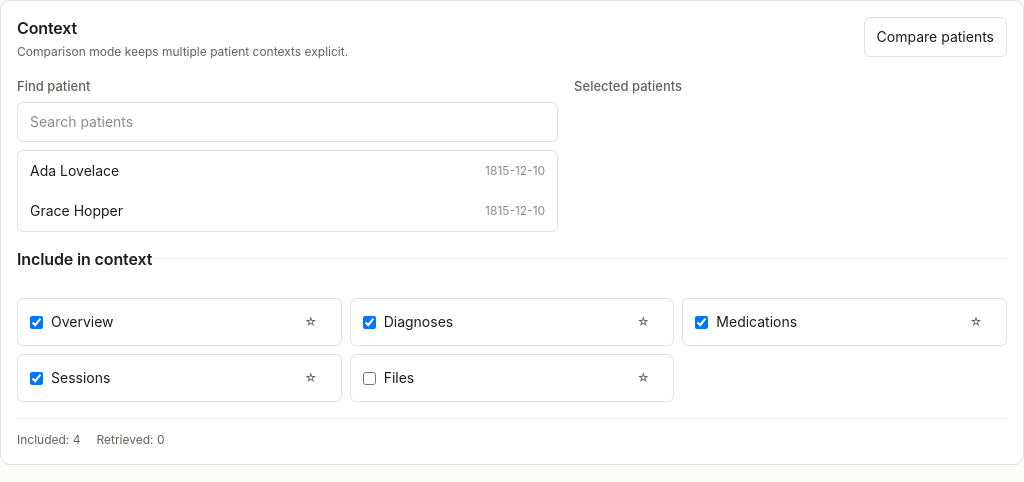
it: ContextPicker › searches and selects a patient with accessible source controls
This screenshot has width=1024, height=482.
In the search field: (288, 122) [17,102,558,142], type "grace"
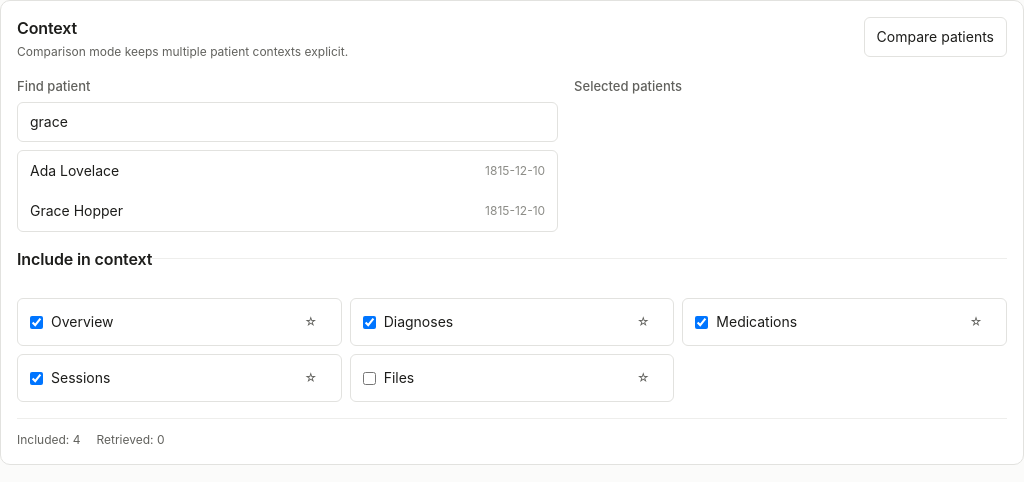
Click the button "Grace Hopper 1815-12-10": click(77, 210) [18,191,557,231]
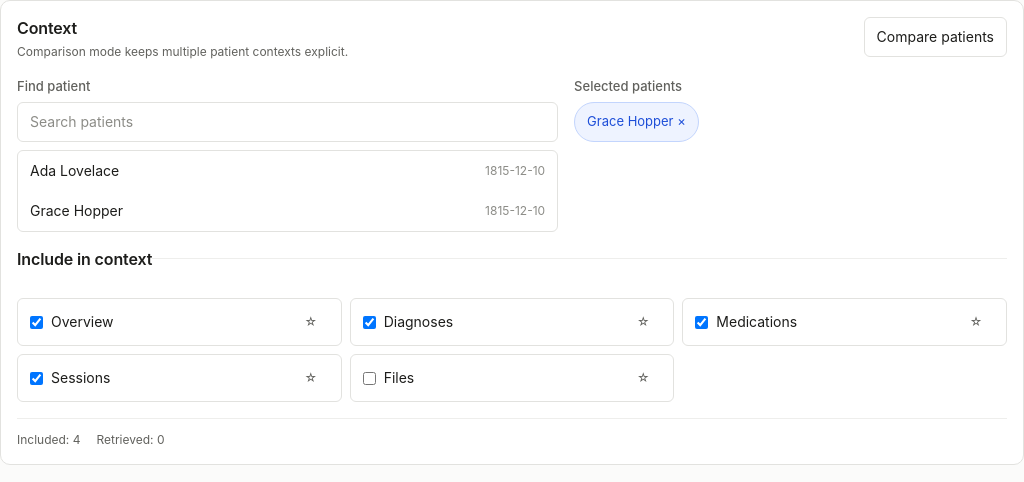
Expected: the checkbox labelled "Overview" is checked, [30,316,43,328]
Result: the button with aria-label "clear selected patients: grace hopper" is shown at [574,102,699,142]
